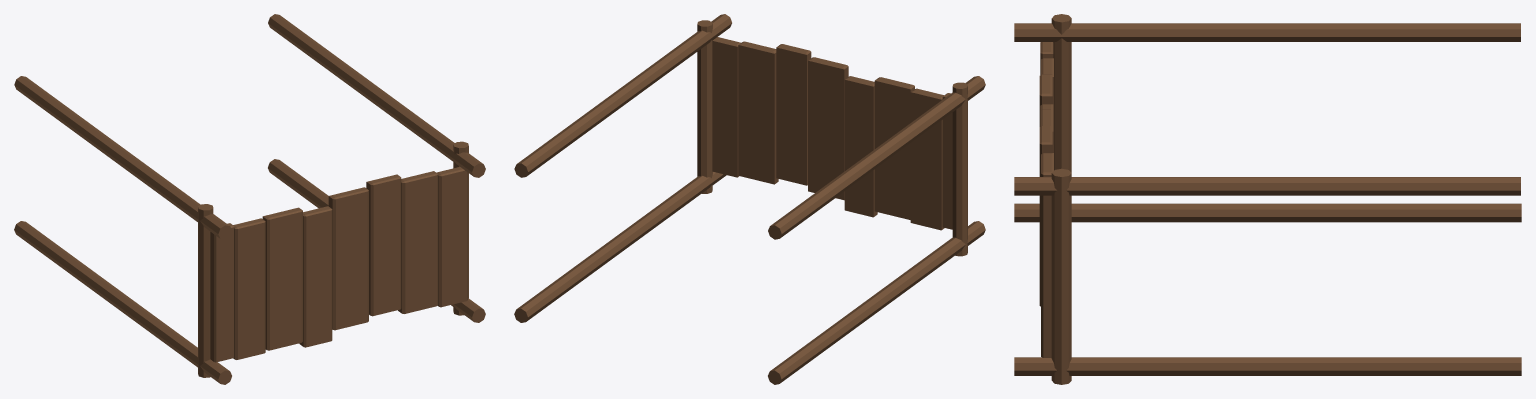
File: Dock_03_2m.fbx
3 renders of one model, left to right at view 1: azimuth 30°, elevation 25°; view 2: azimuth 150°, elevation 25°; view 3: azimuth 270°, elevation 25°, orthographic. The views are drawn at different scales.
Parts seen in each view (by area): view 1: ponton_3.2M; view 2: ponton_3.2M; view 3: ponton_3.2M.
Boxes of the visible parts, x1,y1,x2,y2 form: ponton_3.2M: [14, 14, 485, 384]; ponton_3.2M: [514, 14, 985, 384]; ponton_3.2M: [1014, 14, 1521, 384].
Size of the model in its own units: 212 by 126 by 278.
